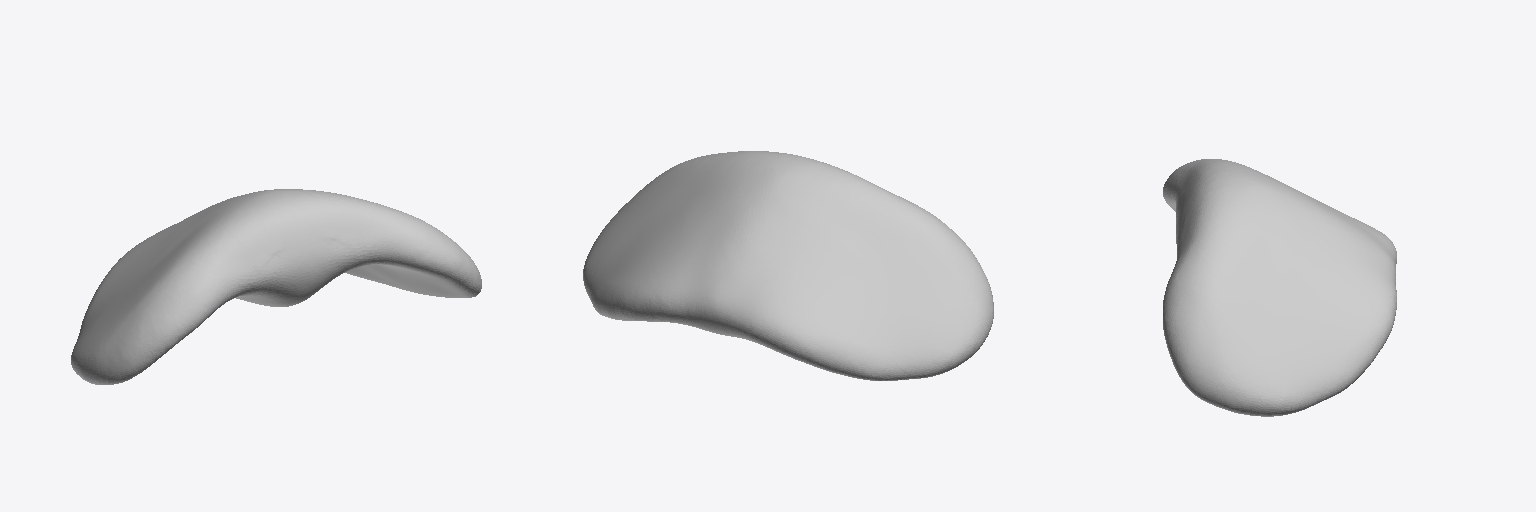
Rendered from shell.obj.
3 views of the same model, side by side, from view 1: azimuth 30°, elevation 25°; view 2: azimuth 150°, elevation 25°; view 3: azimuth 270°, elevation 25° (orthographic).
Visible parts, largest first — view 1: Group6084; view 2: Group6084; view 3: Group6084.
Part boxes in pixels (x1,y1,x2,y2): Group6084: (71,189,481,384); Group6084: (583,151,993,380); Group6084: (1163,159,1396,416).
Size of the model in its own units: 0.6826 by 0.2594 by 0.3609.